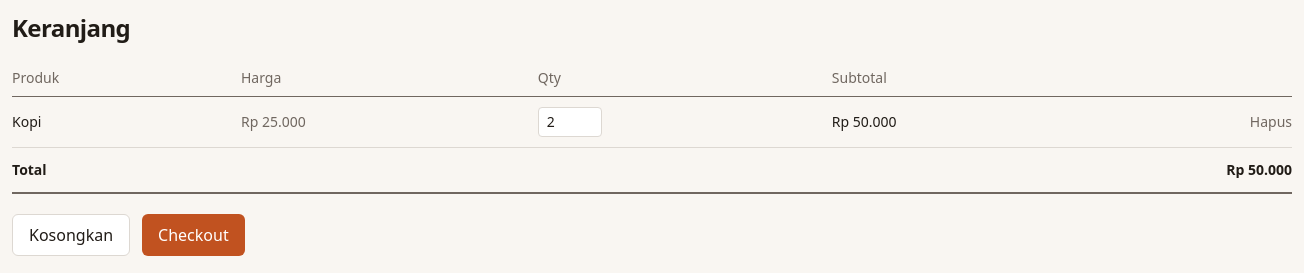
CartView › renders items from store and updates quantity via PATCH
Replace the text in the number field with test id "qty-1" with "3". click: (570, 122)
box: [538,107,602,137]
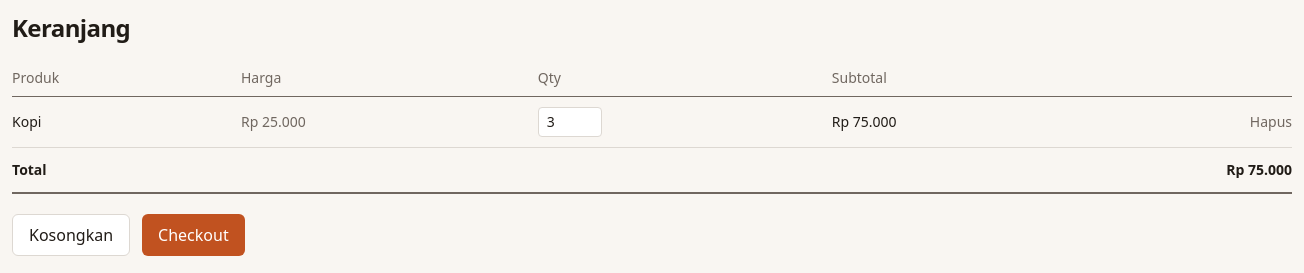
Check: the text "75.000" is shown, box [832,112,897,131]
